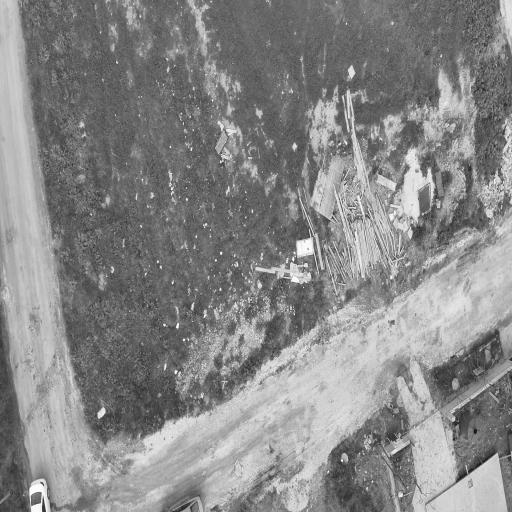car: (164, 493, 202, 511), (29, 478, 49, 511)
